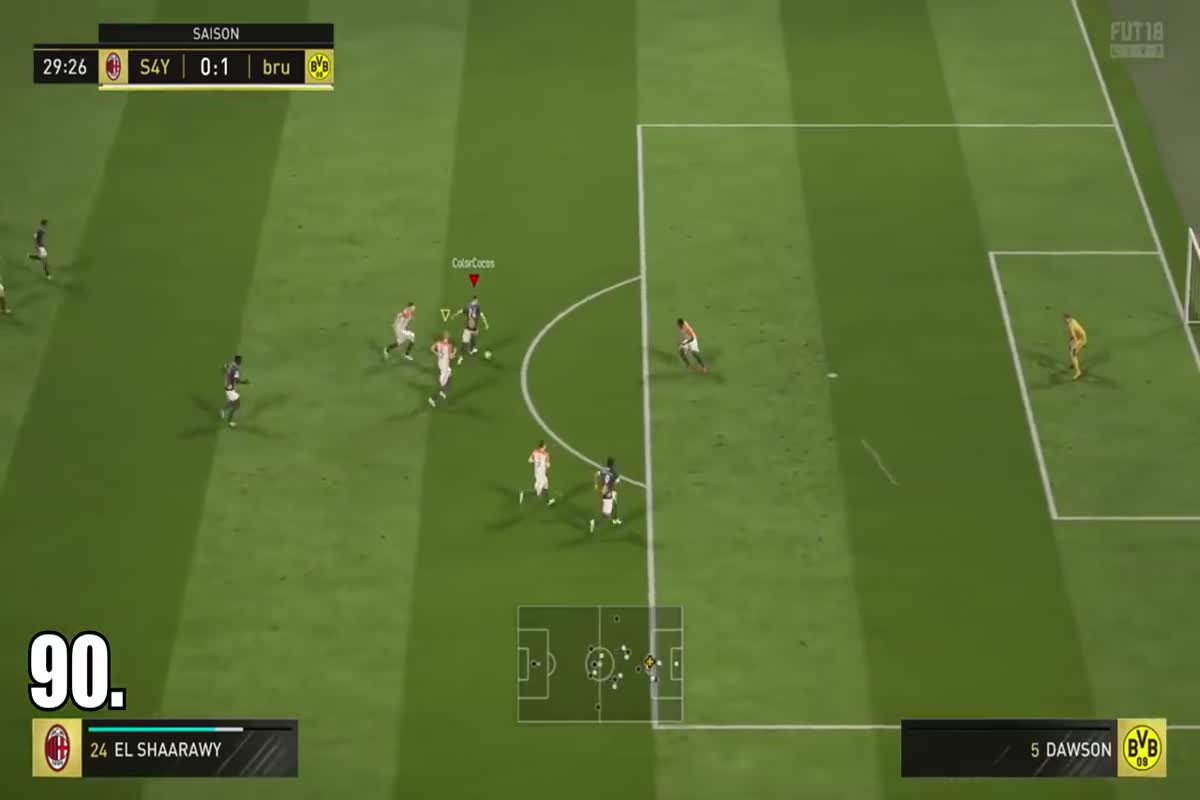ball: (480, 348, 501, 364)
